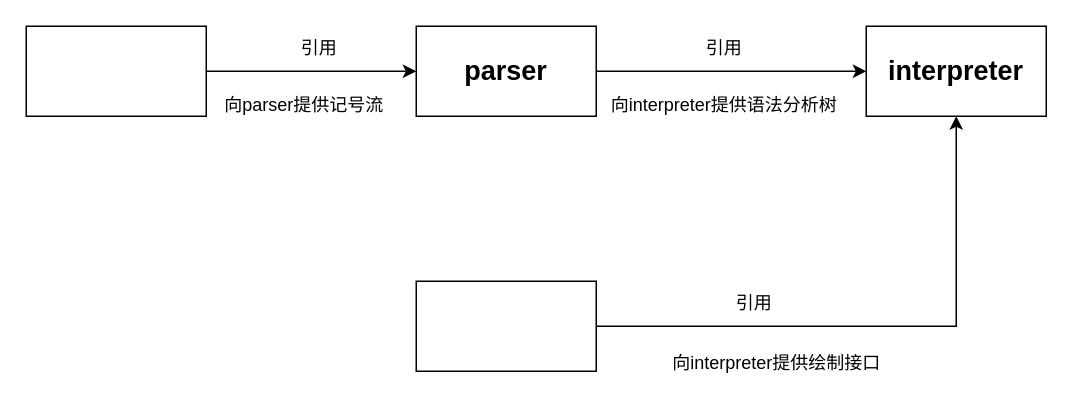
Image size: 1073x413. Some labels were removed from this diagram. The box of each missing label's shape, as (x1, y1, x2, y2) in pixels:
draw_eng: (415, 280, 596, 371)
lexer: (25, 25, 206, 116)
